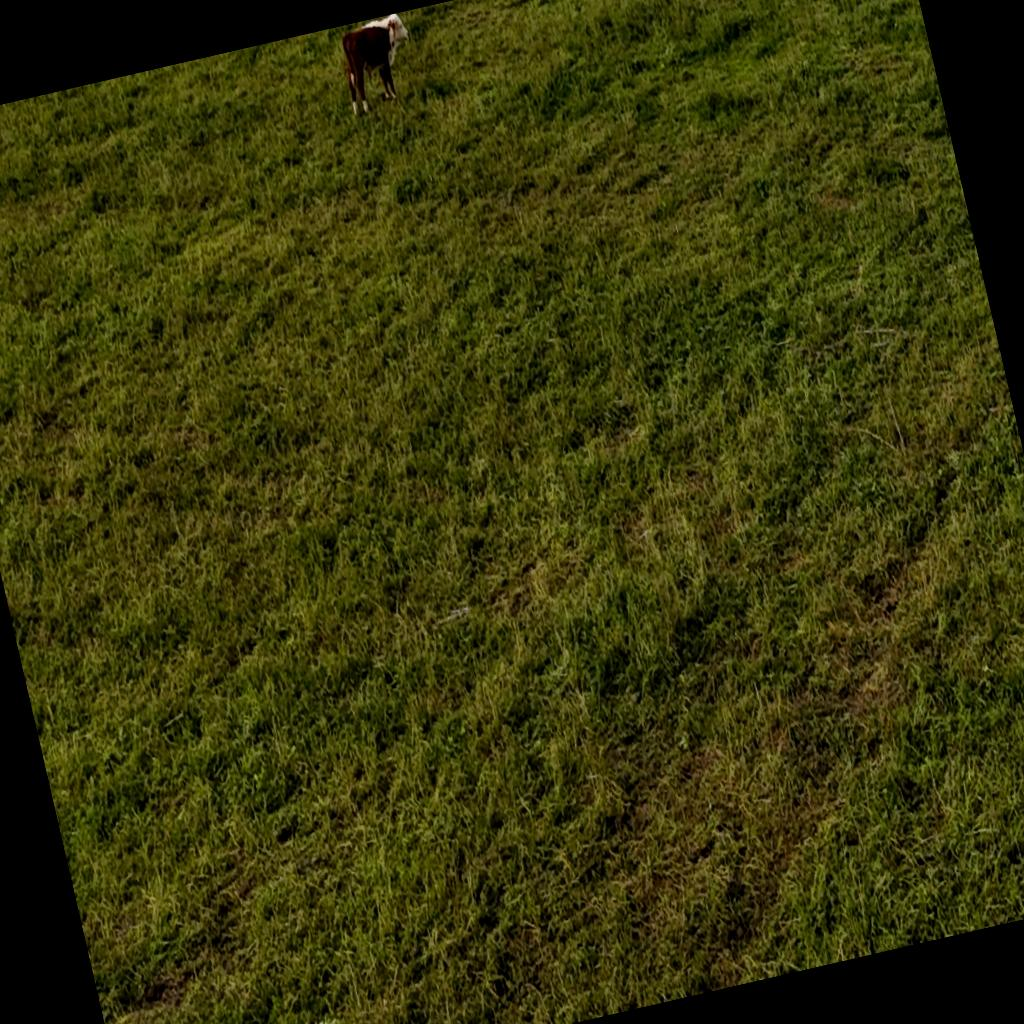cow: (333, 12, 426, 120)
